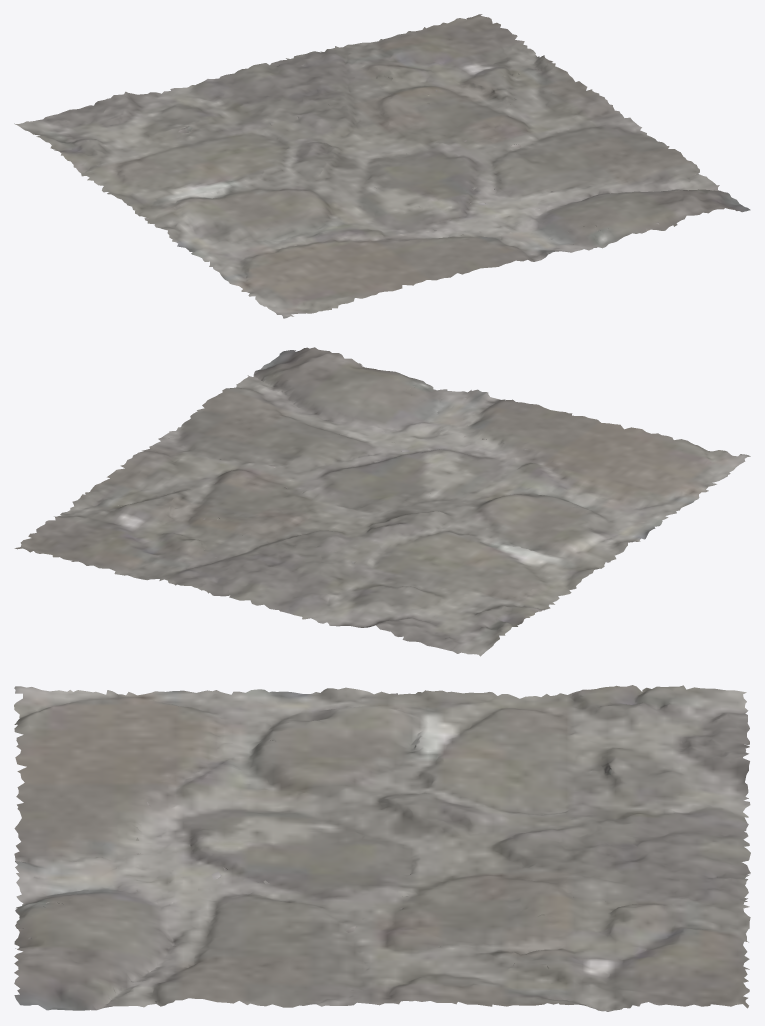
File: floor.glb
3 renders of one model, top to bottom at view 1: azimuth 30°, elevation 25°; view 2: azimuth 150°, elevation 25°; view 3: azimuth 270°, elevation 25°, orthographic. The views are drawn at different scales.
Visible parts, largest first — view 1: floor_crop; view 2: floor_crop; view 3: floor_crop.
Part boxes in pixels (x1,y1,x2,y2): floor_crop: [14, 14, 750, 318]; floor_crop: [14, 347, 750, 656]; floor_crop: [14, 685, 750, 1011].
Size of the model in its own units: 8 by 0.2427 by 8.
Materials: 1 (1 with a texture image).
